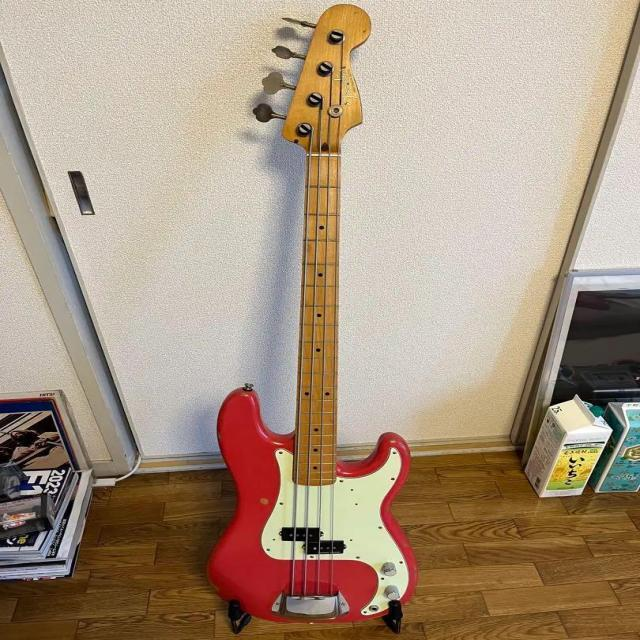bass: (208, 5, 416, 632)
